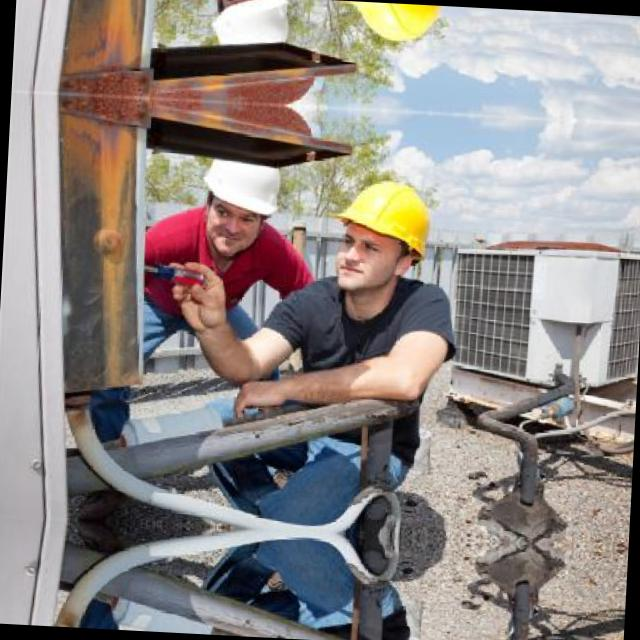helmet: (174, 124, 297, 267), (317, 164, 447, 298), (183, 0, 304, 80), (329, 0, 456, 56)
